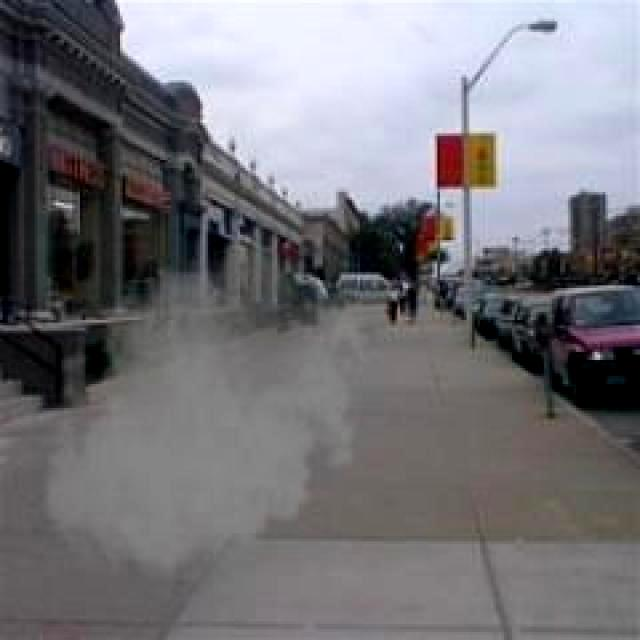Smoke: (36, 216, 380, 592)
